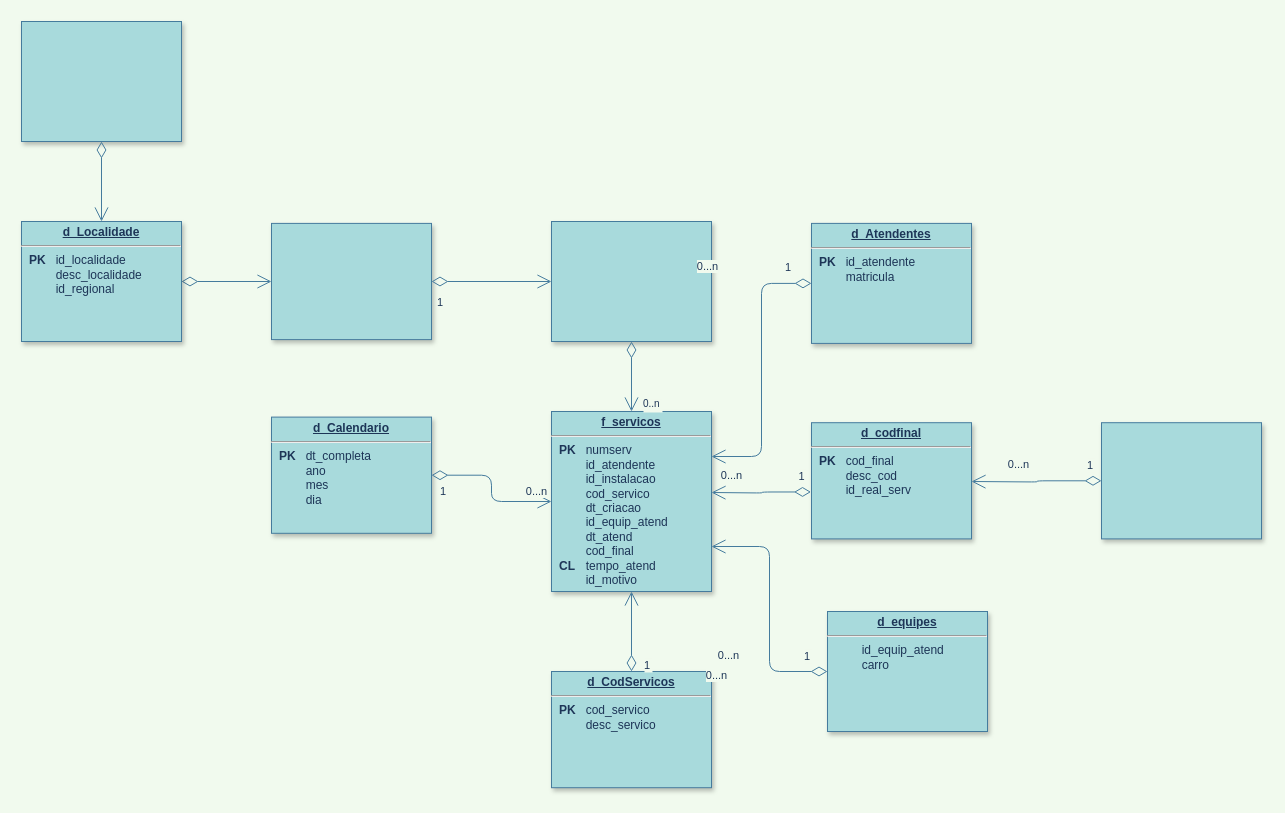
Image size: 1285x813. Some labels were removed from this diagram. The shapes that lost their labels are listed below. From the top down, each one's centre as x and y in pixels, then its label:
At pixel 102 82: "d_Regional PK id_regional regional reg".
At pixel 352 282: "d_Equipamentos PK id_zna identificador potencia".
At pixel 632 282: "d_Cliente PK id_instalacao id_zna".
At pixel 1182 482: "d_real_serv PK id_real_serv desc_serv".
